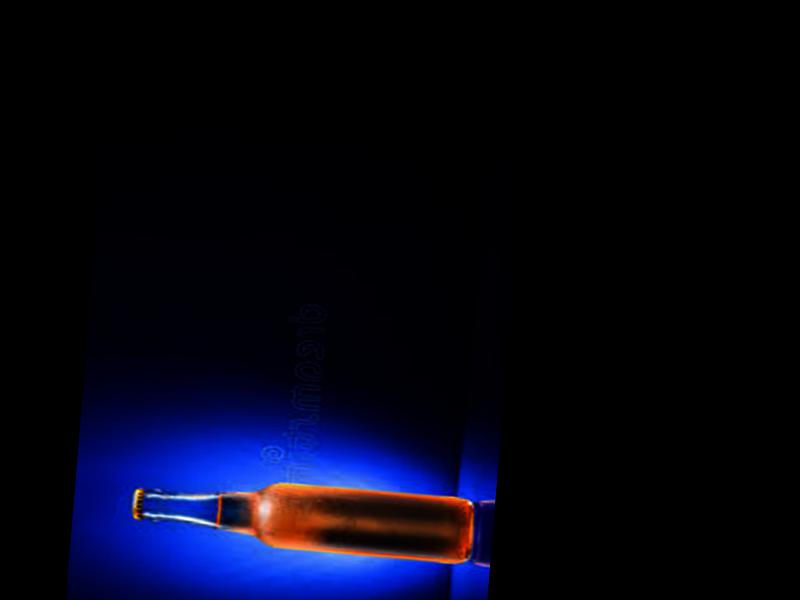Beer: (129, 468, 475, 568)
